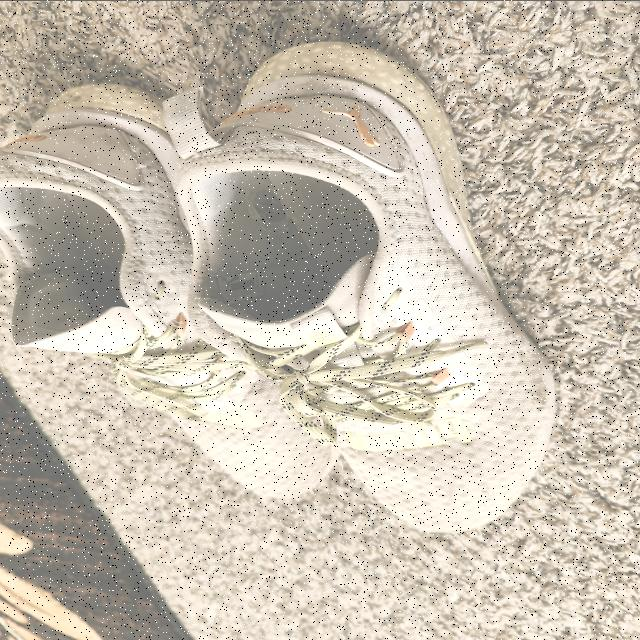white shoes: (0, 41, 553, 532)
